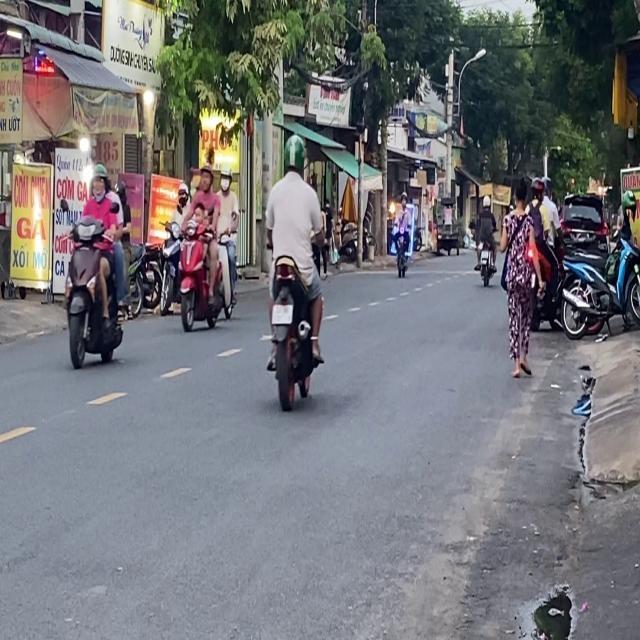helmet: (281, 134, 306, 176), (88, 162, 108, 198), (197, 160, 213, 190), (218, 165, 232, 198)
licenseplate: (262, 132, 326, 408), (62, 160, 129, 369), (176, 155, 224, 332), (207, 157, 243, 328)
motorcyclist: (193, 202, 206, 224)
nohelmet: (272, 304, 292, 323)
